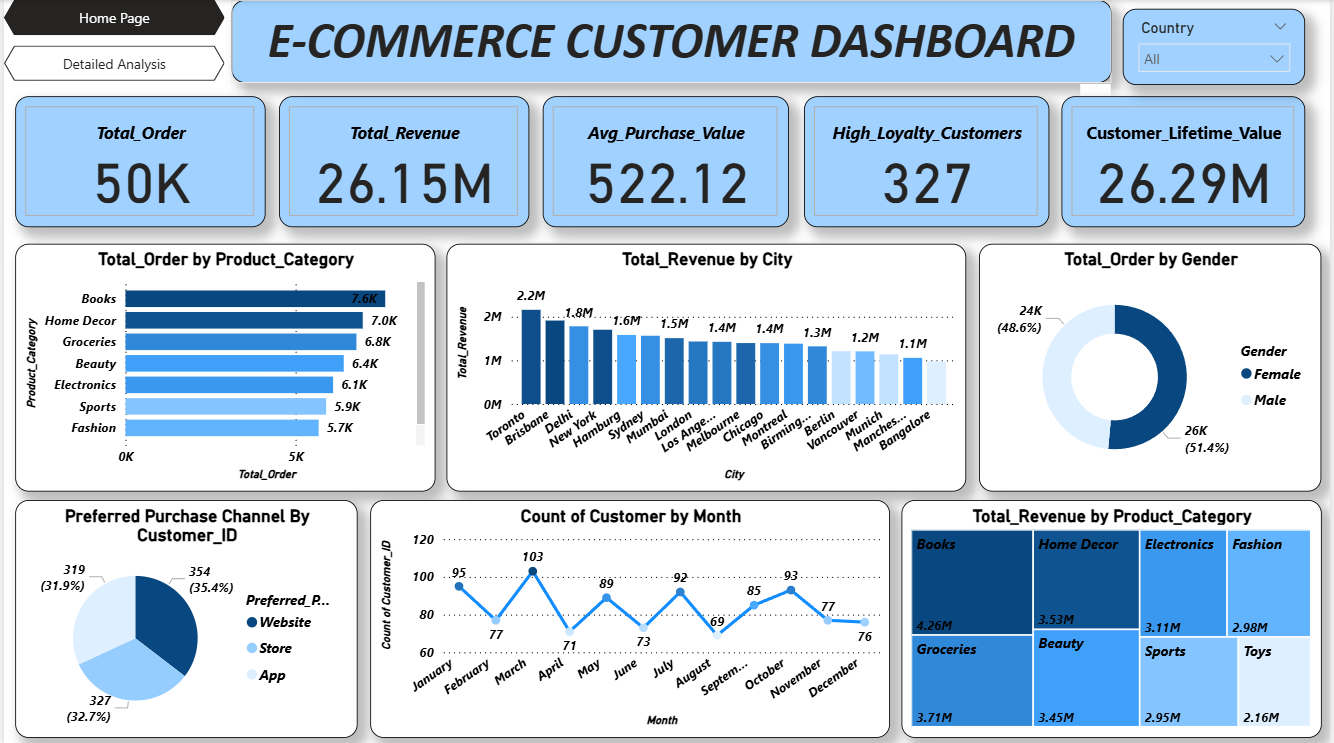

The page's visual inventory and layout, read from the dashboard file:
{"tool":"powerbi","page":{"name":"Home Page","canvas":[1280,720],"ordinal":0},"visuals":[{"type":"textbox","box":[219.6,0,849.3,79.6],"z":0},{"type":"cardVisual","fields":{"Data":["Sheet1.Total_Order"]},"box":[10.9,92.9,241.3,126.7],"z":1000},{"type":"cardVisual","fields":{"Data":["Sheet1.Total_Revenue"]},"box":[265.4,92.9,241.3,126.7],"z":2000},{"type":"cardVisual","fields":{"Data":["Sheet1.Avg_Purchase_Value"]},"box":[520,92.9,237.7,126.7],"z":3000},{"type":"cardVisual","fields":{"Data":["Sheet1.High_Loyalty_Customers"]},"box":[772.1,92.9,236.5,126.7],"z":4000},{"type":"cardVisual","fields":{"Data":["Sheet1.Customer_Lifetime_Value"]},"box":[1020.6,92.9,235.3,126.7],"z":5000},{"type":"barChart","title":"Order by Product Category","fields":{"Category":["Sheet1.Product_Category"],"Y":["Sheet1.Total_Order"]},"box":[10.9,235.3,405.4,238.9],"z":6000},{"type":"columnChart","title":"Revenue by City","fields":{"Category":["Sheet1.City"],"Y":["Sheet1.Total_Revenue"]},"box":[427.1,235.3,501.9,238.9],"z":7000},{"type":"donutChart","title":"Order  by Gender","fields":{"Category":["Sheet1.Gender"],"Y":["Sheet1.Total_Order"]},"box":[941,235.3,330.6,238.9],"z":8000},{"type":"slicer","fields":{"Values":["Sheet1.Country"]},"box":[1079.8,8.4,176.1,73.6],"z":9000},{"type":"pieChart","title":"Purchase Channel By Customer ID","fields":{"Category":["Sheet1.Preferred_Purchase_Channel"],"Y":["CountNonNull(Sheet1.Customer_ID)"]},"box":[10.9,482.6,330.6,229.2],"z":10000},{"type":"lineChart","title":"Count of Customer by Month","fields":{"Category":["Sheet1.Signup_Date.Variation.Date Hierarchy.Month"],"Y":["CountNonNull(Sheet1.Customer_ID)"]},"box":[353.5,482.6,501.9,229.2],"z":11000},{"type":"treemap","title":"Revenue by Product Category","fields":{"Group":["Sheet1.Product_Category"],"Values":["Sheet1.Total_Revenue"]},"box":[866.2,482.6,405.4,229.2],"z":12000},{"type":"pageNavigator","box":[0,0,213.5,79.6],"z":13000}]}

Visuals, with their boxes in screenshot pixels (x1, y1, x2, y2), scaled from the page's 1280x720 canvas onto the 1334x743 screenshot:
textbox: {"left": 229, "top": 0, "right": 1114, "bottom": 82}
cardVisual - Sheet1.Total_Order: {"left": 11, "top": 96, "right": 263, "bottom": 227}
cardVisual - Sheet1.Total_Revenue: {"left": 277, "top": 96, "right": 528, "bottom": 227}
cardVisual - Sheet1.Avg_Purchase_Value: {"left": 542, "top": 96, "right": 790, "bottom": 227}
cardVisual - Sheet1.High_Loyalty_Customers: {"left": 805, "top": 96, "right": 1051, "bottom": 227}
cardVisual - Sheet1.Customer_Lifetime_Value: {"left": 1064, "top": 96, "right": 1309, "bottom": 227}
"Order by Product Category" barChart: {"left": 11, "top": 243, "right": 434, "bottom": 489}
"Revenue by City" columnChart: {"left": 445, "top": 243, "right": 968, "bottom": 489}
"Order  by Gender" donutChart: {"left": 981, "top": 243, "right": 1325, "bottom": 489}
slicer - Sheet1.Country: {"left": 1125, "top": 9, "right": 1309, "bottom": 85}
"Purchase Channel By Customer ID" pieChart: {"left": 11, "top": 498, "right": 356, "bottom": 735}
"Count of Customer by Month" lineChart: {"left": 368, "top": 498, "right": 891, "bottom": 735}
"Revenue by Product Category" treemap: {"left": 903, "top": 498, "right": 1325, "bottom": 735}
pageNavigator: {"left": 0, "top": 0, "right": 223, "bottom": 82}
